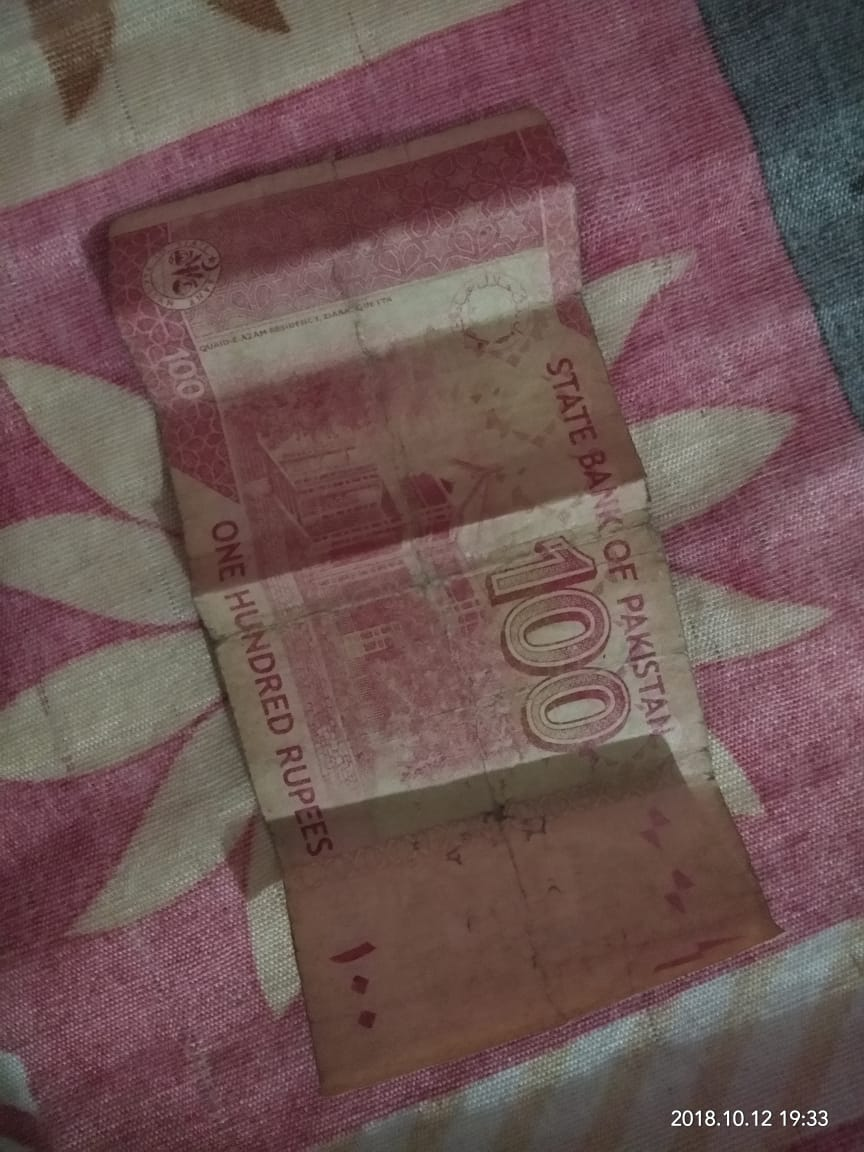100 rupee: (81, 91, 795, 1132)
